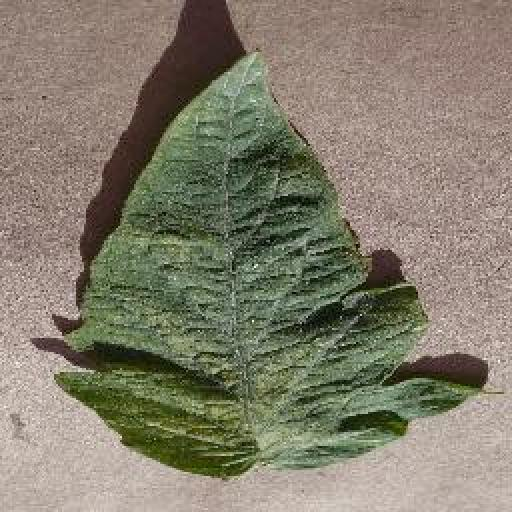disease_tomato: (53, 46, 475, 476)
